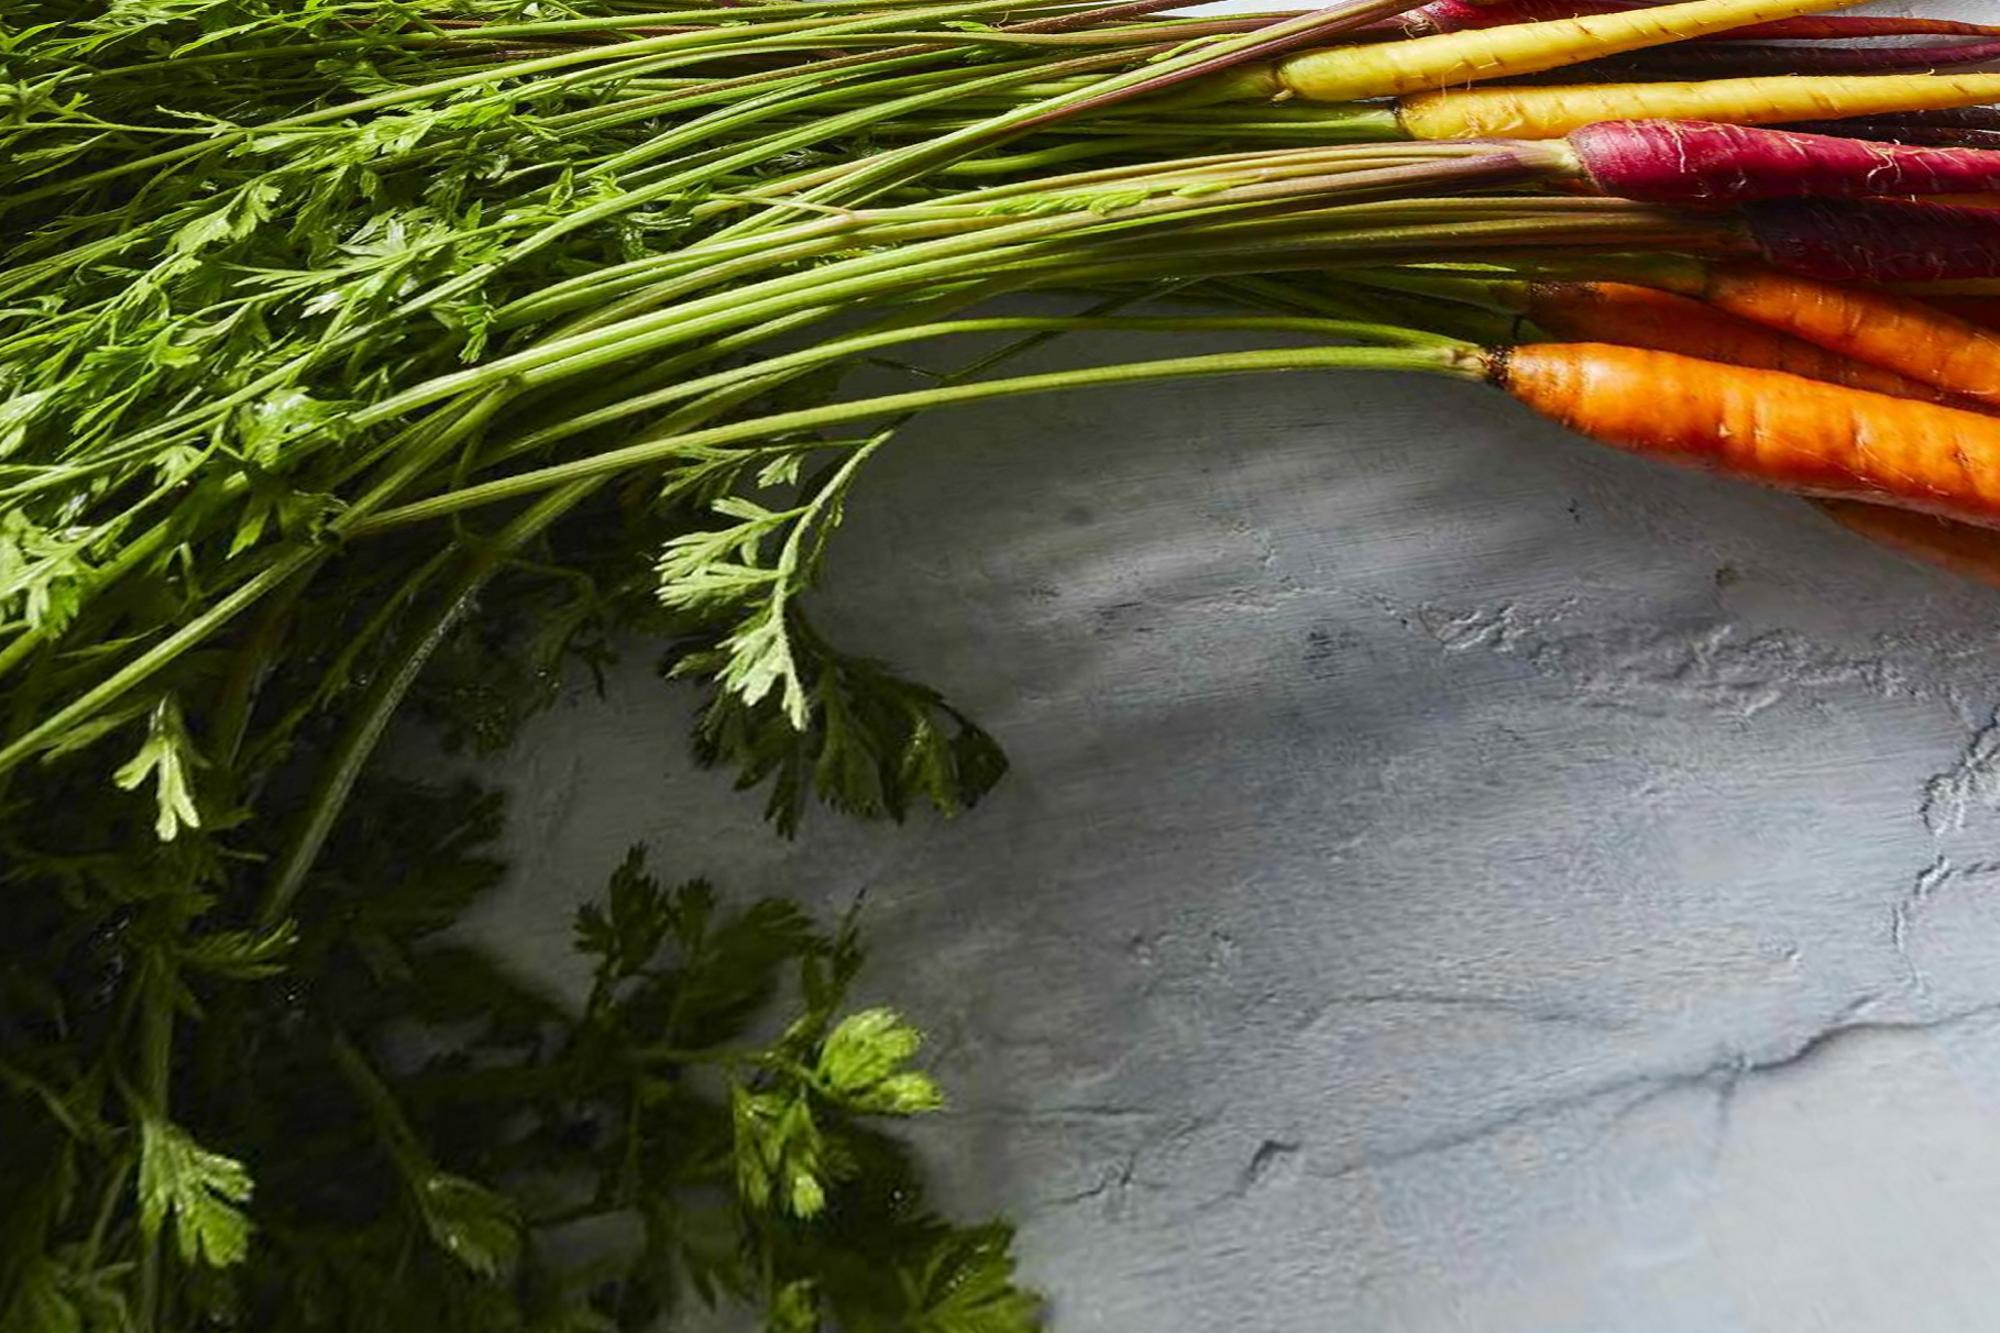carrot: (1422, 320, 2000, 534), (1245, 30, 2000, 116)
